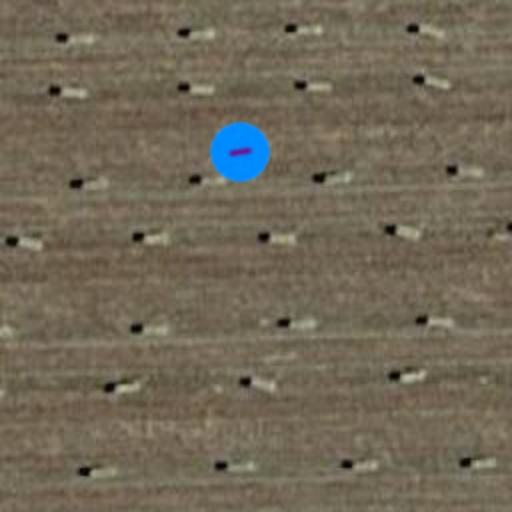circle: (204, 116, 276, 188)
